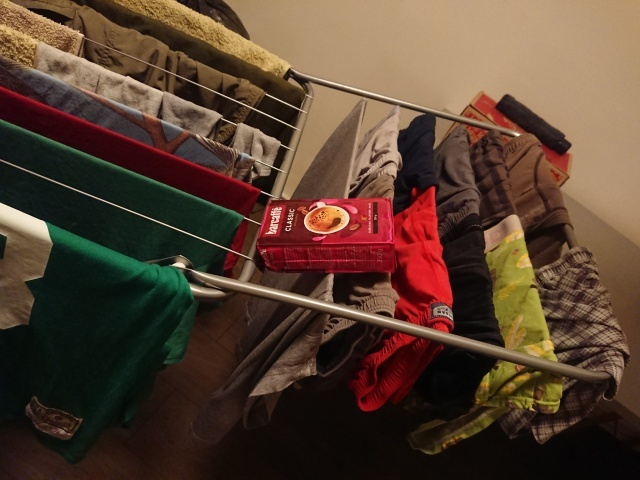Barcaffe Classic Original 225g: (254, 193, 398, 279)
